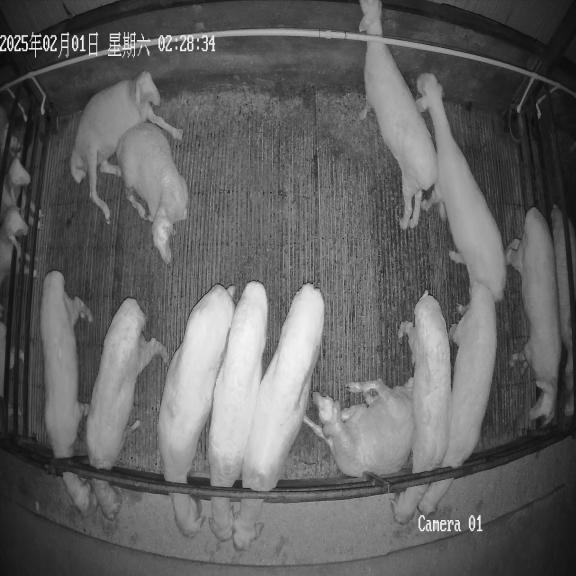eating: (232, 283, 324, 550), (158, 284, 234, 536), (418, 280, 497, 514), (86, 298, 169, 520), (208, 281, 268, 541), (40, 270, 93, 514)
lying: (70, 72, 182, 222), (304, 379, 414, 477), (115, 122, 188, 264)
stand: (417, 74, 506, 301), (359, 0, 437, 229), (506, 207, 561, 425)
